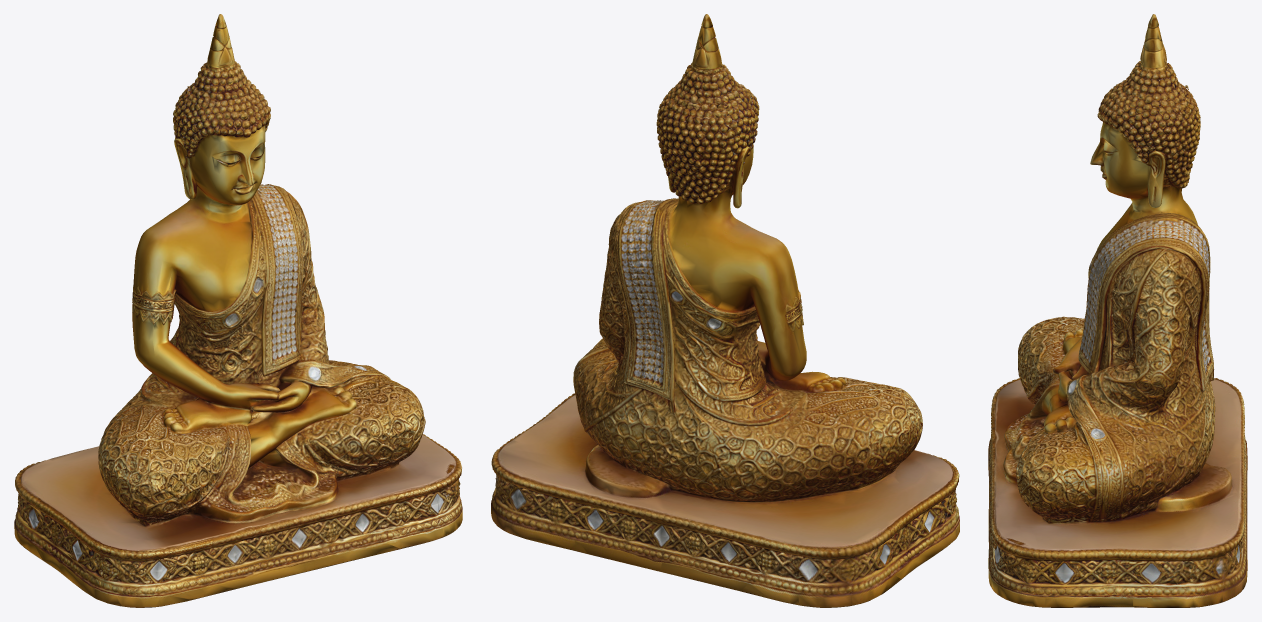
Rendered from buddha_2.glb.
3 views of the same model, side by side, from view 1: azimuth 30°, elevation 25°; view 2: azimuth 150°, elevation 25°; view 3: azimuth 270°, elevation 25° (orthographic). The views are drawn at different scales.
Visible parts, largest first — view 1: tripo_node_357f94e9-3deb-405d-ba43-d5fb31908474; view 2: tripo_node_357f94e9-3deb-405d-ba43-d5fb31908474; view 3: tripo_node_357f94e9-3deb-405d-ba43-d5fb31908474.
Boxes of the visible parts, x1,y1,x2,y2 form: tripo_node_357f94e9-3deb-405d-ba43-d5fb31908474: [14, 14, 462, 607]; tripo_node_357f94e9-3deb-405d-ba43-d5fb31908474: [491, 14, 959, 607]; tripo_node_357f94e9-3deb-405d-ba43-d5fb31908474: [988, 14, 1247, 607].
Bounding box in the file's own units: 0.7511 × 0.9782 × 0.4563.
1 material, 1 textured.
